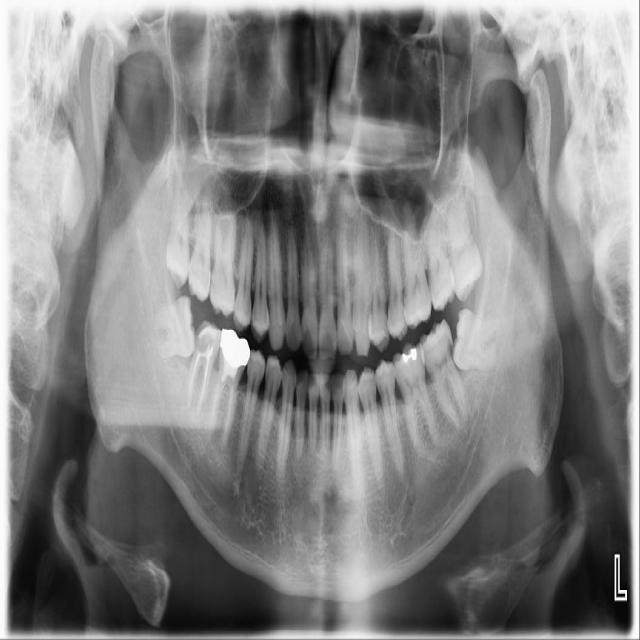3M ESPE Implant: (163, 169, 192, 290)
52: (391, 340, 426, 383), (192, 320, 225, 356), (221, 330, 250, 367), (448, 345, 452, 359)
73: (205, 351, 245, 448), (181, 347, 215, 415), (610, 570, 617, 582)
BioHorizons Implant: (425, 199, 456, 315)
BioLife Implant: (448, 184, 482, 304)
Biomet 3i Implant: (451, 308, 502, 374)
Blue Sky Bio Implant: (414, 319, 472, 432)
Caries: (185, 185, 219, 304)
Implant: (181, 319, 224, 413)
Keystone Dental Implant: (148, 296, 197, 361)
